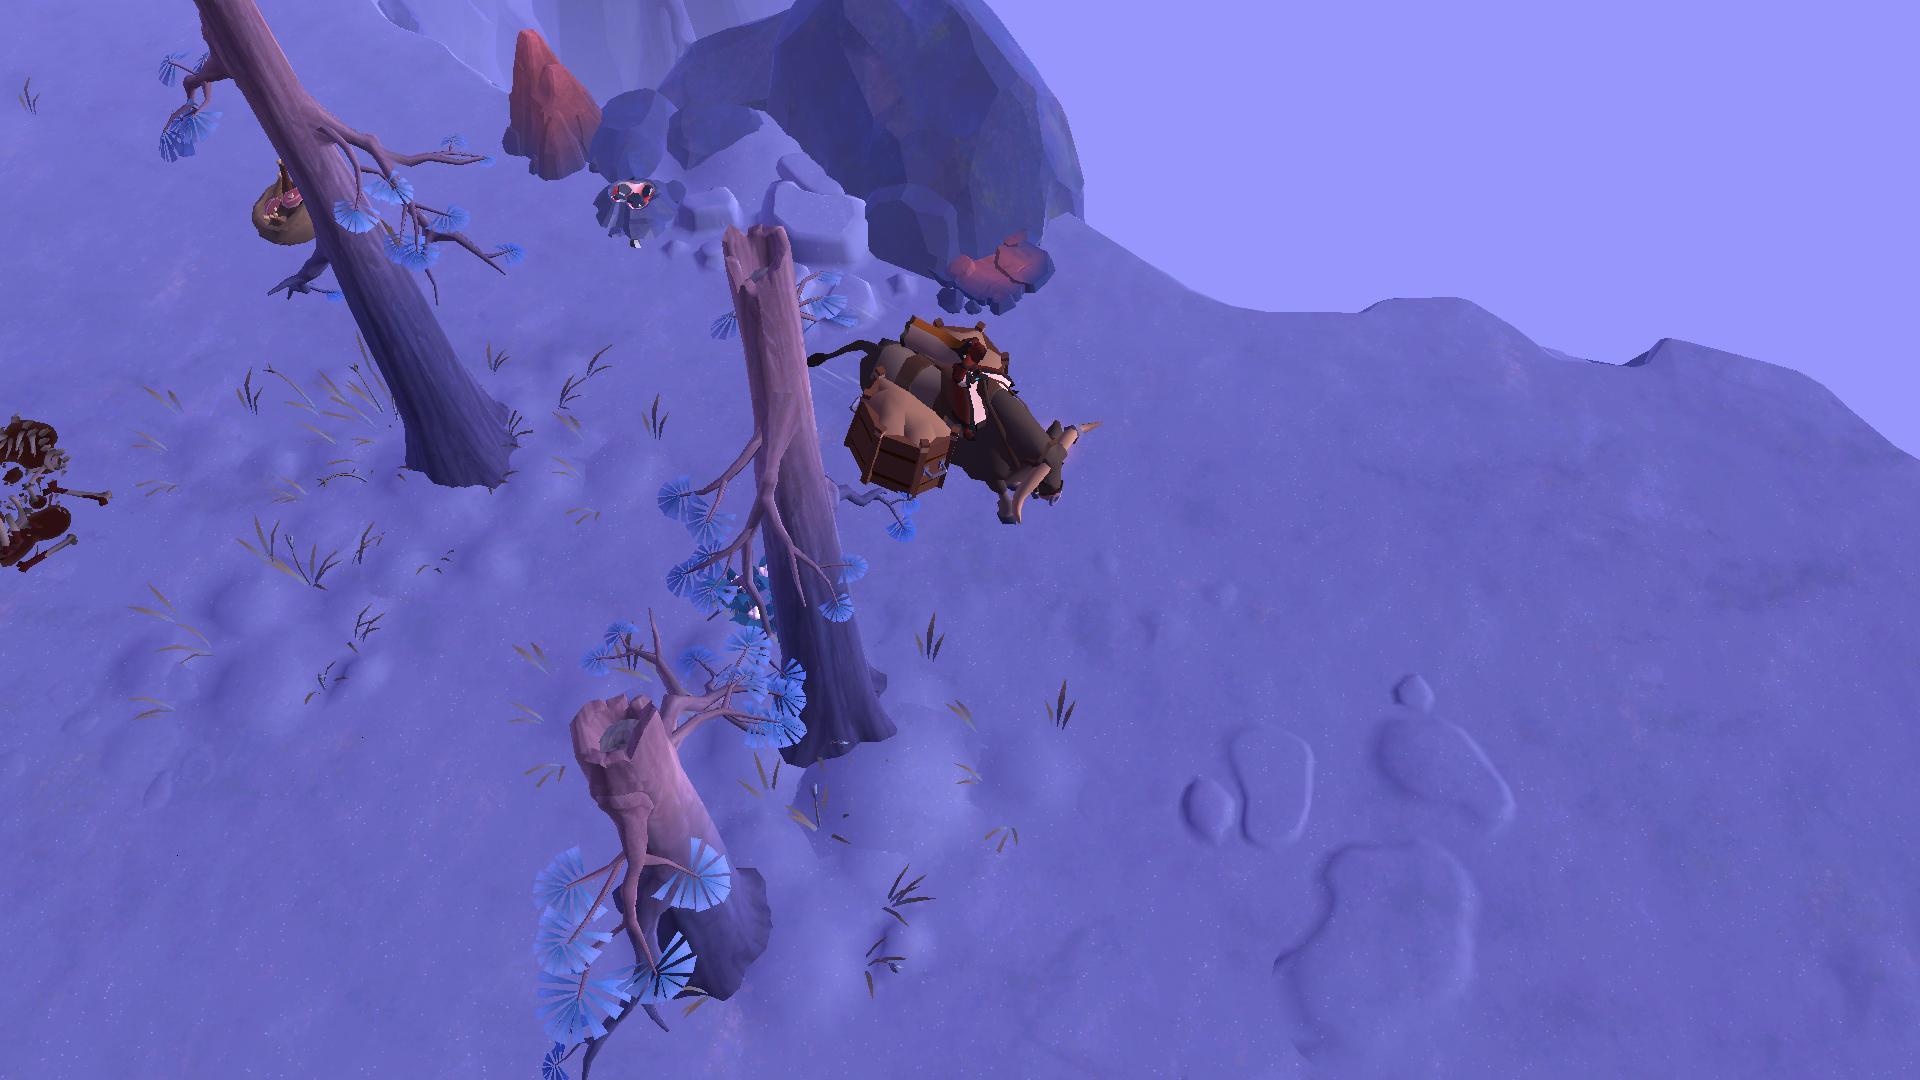rock_t5: (501, 17, 612, 181)
